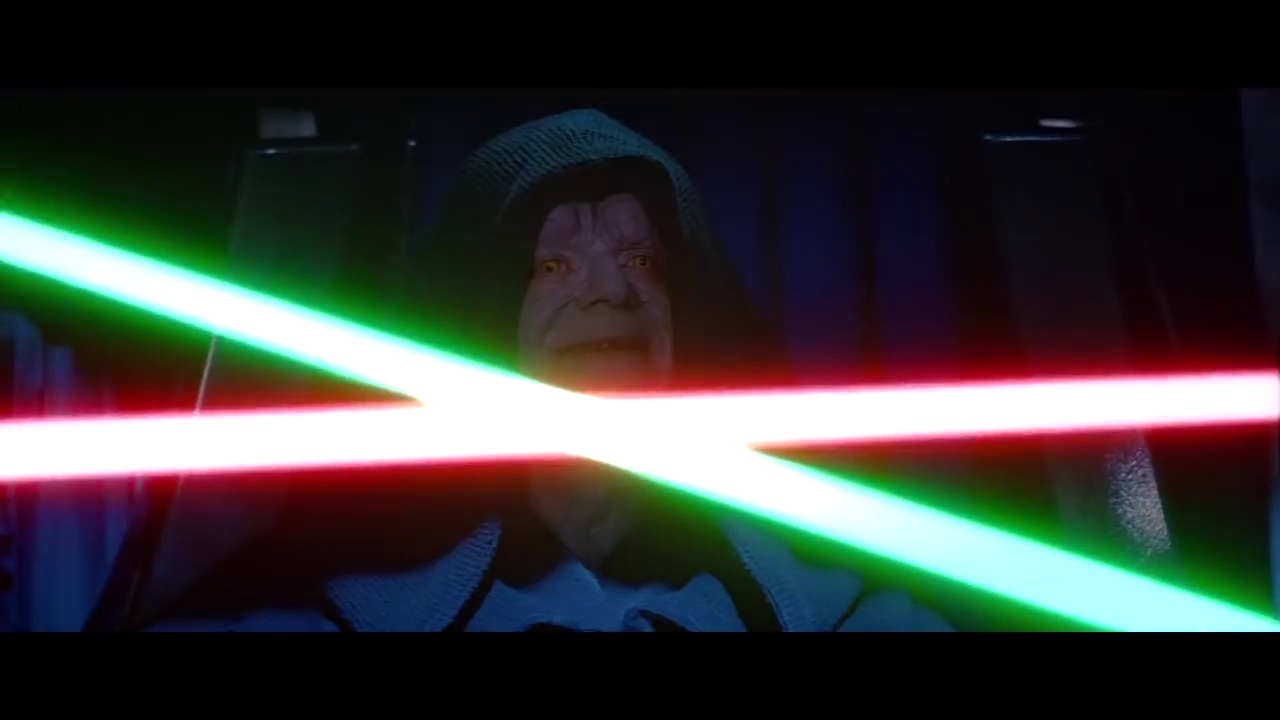lightsaber: (1, 185, 1277, 634), (3, 339, 1280, 512)
